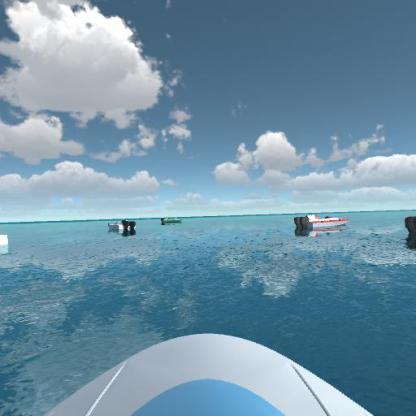usv0: (160, 212, 185, 229)
usv1: (103, 218, 140, 238)
usv3: (291, 212, 350, 235)
